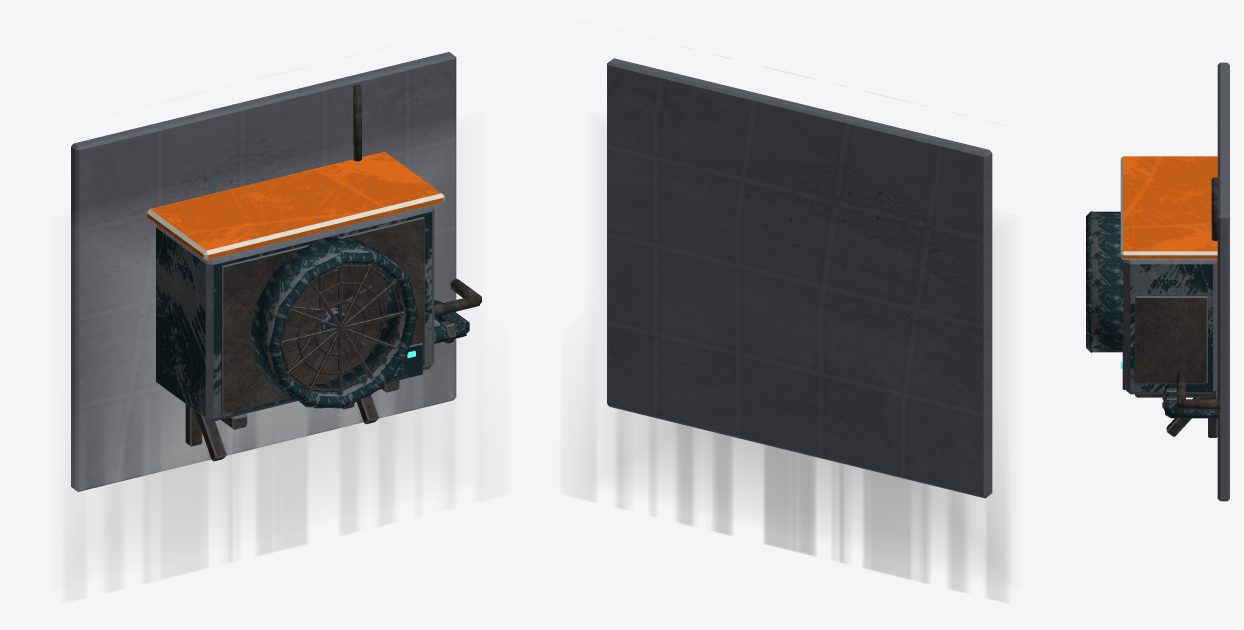
File: ac_unit.glb
3 views of the same model, side by side, from view 1: azimuth 30°, elevation 25°; view 2: azimuth 150°, elevation 25°; view 3: azimuth 270°, elevation 25° (orthographic). The views are drawn at different scales.
Parts seen in each view (by area): view 1: ac_unit_LOD0, ac_unit_contact; view 2: ac_unit_LOD0, ac_unit_contact; view 3: ac_unit_LOD0.
Boxes of the visible parts, x1,y1,x2,y2 form: ac_unit_LOD0: [71, 52, 481, 491]; ac_unit_contact: [62, 67, 493, 601]; ac_unit_LOD0: [607, 58, 992, 498]; ac_unit_contact: [578, 67, 1009, 601]; ac_unit_LOD0: [1086, 62, 1229, 501].
Size of what is drawn, in the model's own units: 2 by 1.8 by 0.592.
5 materials, 4 textured.
